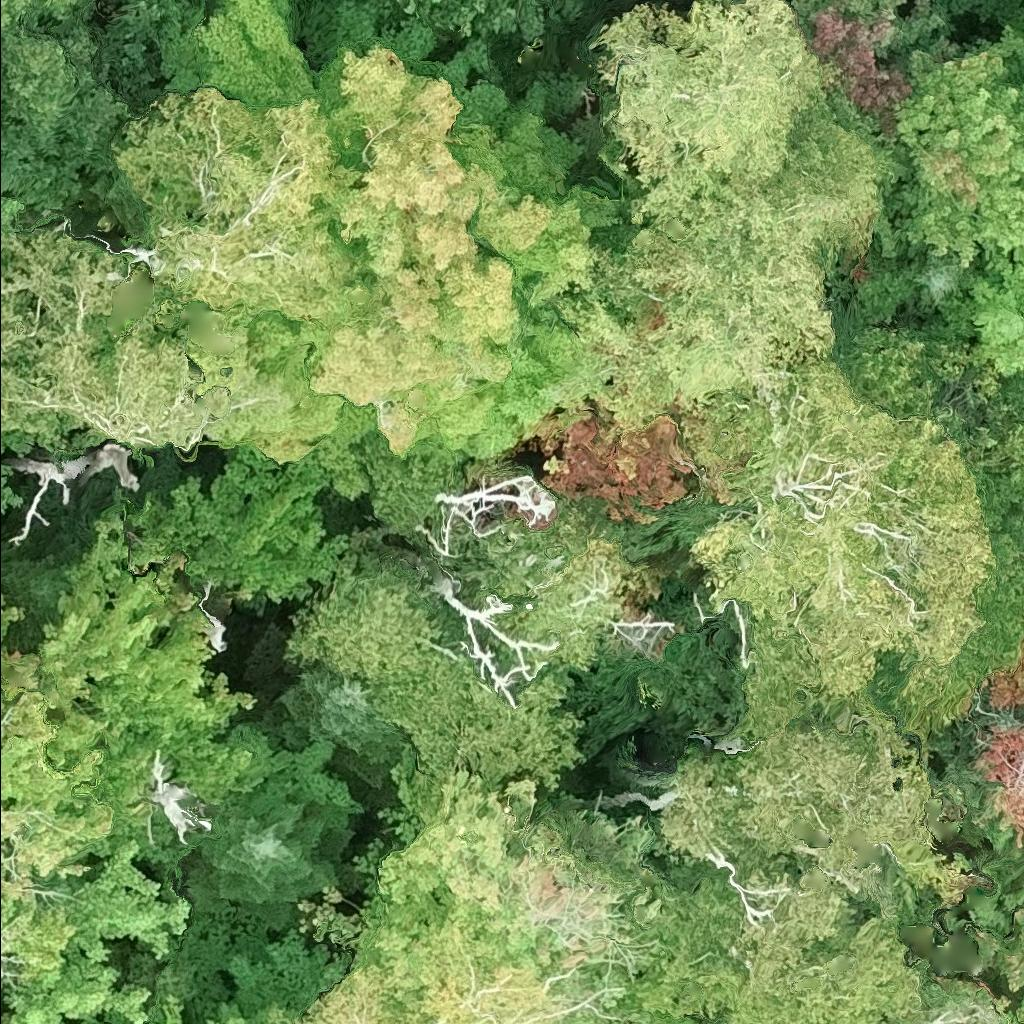crown: (309, 0, 664, 461), (688, 325, 1023, 740), (597, 90, 903, 439), (1, 497, 265, 866), (0, 588, 196, 1023), (282, 548, 590, 822), (661, 712, 943, 987), (99, 82, 379, 341), (0, 217, 297, 444), (349, 767, 548, 1017), (586, 0, 841, 190), (129, 409, 379, 602), (627, 873, 917, 1023), (893, 47, 1023, 268), (193, 778, 356, 926), (532, 396, 694, 522), (260, 664, 405, 793), (157, 0, 319, 107), (419, 919, 567, 1023), (807, 0, 913, 139), (955, 246, 1023, 379), (0, 413, 86, 516), (286, 969, 439, 1023), (883, 955, 1003, 1023), (975, 723, 1023, 846), (127, 953, 196, 1023), (905, 247, 965, 313), (989, 645, 1023, 708), (786, 0, 836, 33), (205, 996, 253, 1023), (0, 198, 25, 240), (852, 0, 903, 14), (0, 982, 10, 1023), (0, 691, 5, 709), (0, 565, 3, 589), (115, 1018, 125, 1023)
